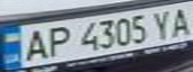0: (115, 15, 136, 47)
3: (97, 17, 118, 51)
4: (75, 19, 100, 52)
5: (130, 12, 151, 44)
A: (18, 26, 51, 62), (166, 3, 193, 38)
P: (42, 24, 75, 58)
Y: (148, 7, 178, 40)
